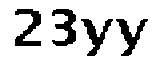2: (10, 5, 43, 50)
3: (46, 5, 78, 52)
y: (115, 12, 148, 60), (81, 14, 114, 60)
